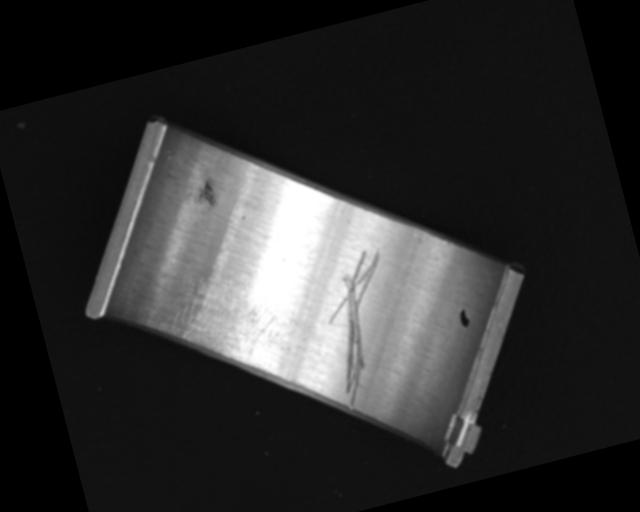blot: (456, 307, 472, 330)
bruise: (193, 178, 220, 212)
nick: (311, 246, 418, 416)
scratch: (140, 258, 295, 386)
